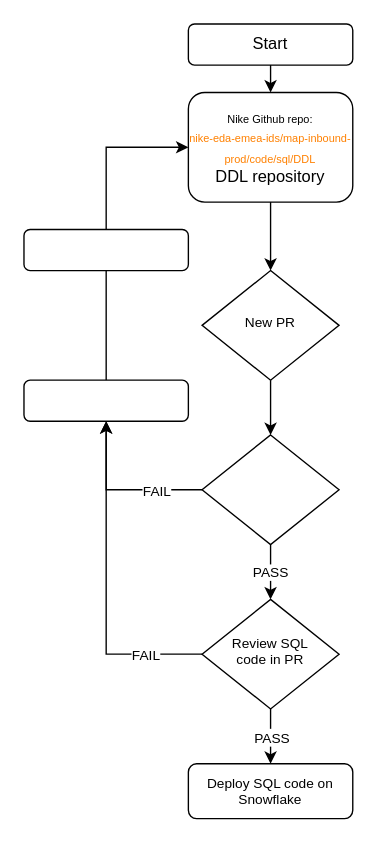
Image size: 377x843. Some labels were removed from this diagram. The shapes that lost their labels are listed below. From the top down, each one's centre as x and y in pixels, then its label:
At [105,249]: "Update sql code and new PR".
At [105,400]: "Revoke PR".
At [270,489]: "Validate process".
